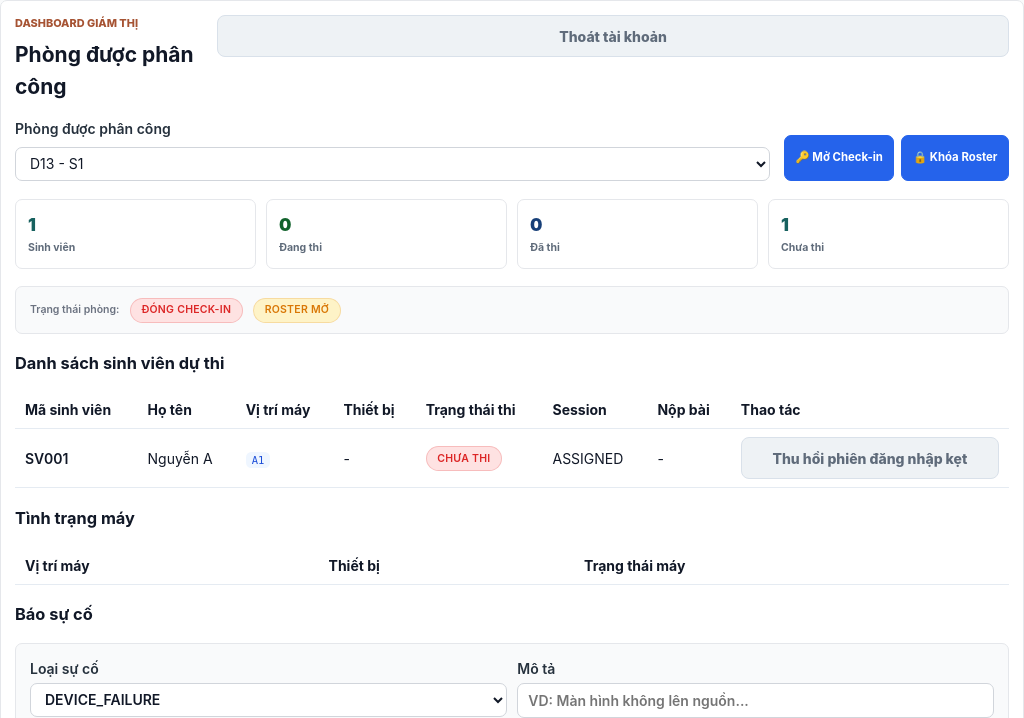
Test: ProctorDashboardPanel › revoke action shows permission message on 403
Expected: the text "SV001" is shown, [15, 429, 138, 488]
Click the button "Thu hồi phiên đăng nhập kẹt".
click(870, 458)  # box [741, 437, 999, 479]
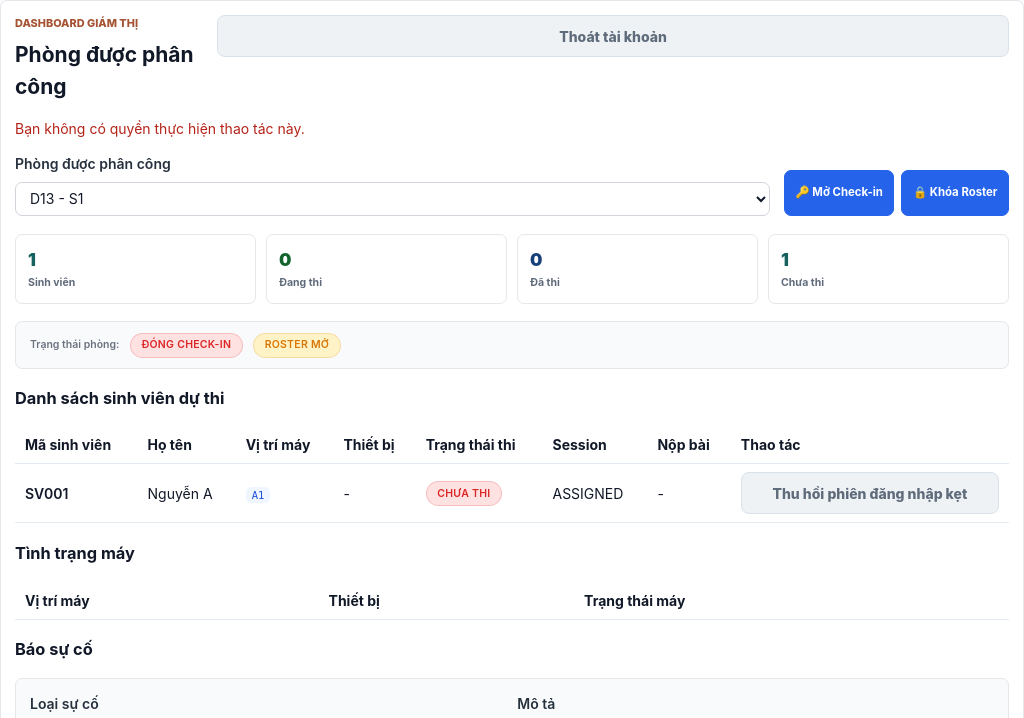
Expected: the text "Bạn không có quyền thực hiện thao tác này." is shown, [15, 120, 305, 137]
